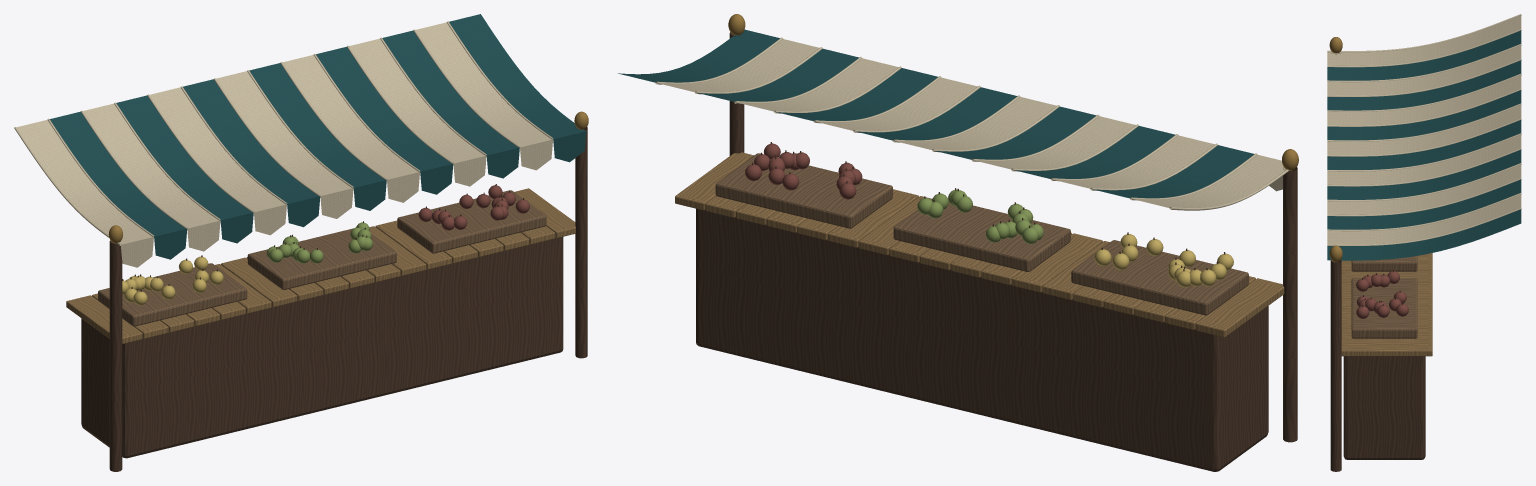
The model's file is market_stall.glb.
3 renders of one model, left to right at view 1: azimuth 30°, elevation 25°; view 2: azimuth 150°, elevation 25°; view 3: azimuth 270°, elevation 25°, orthographic. The views are drawn at different scales.
Parts seen in each view (by area): view 1: MarketStall_timber, MarketStall_ivory_cloth, MarketStall_teal_cloth, MarketStall_wood_edge, MarketStall_oak_planks, MarketStall_wine_cloth, MarketStall_leaf_gold, MarketStall_leaf_green; view 2: MarketStall_timber, MarketStall_ivory_cloth, MarketStall_teal_cloth, MarketStall_wood_edge, MarketStall_oak_planks, MarketStall_leaf_gold, MarketStall_wine_cloth, MarketStall_leaf_green; view 3: MarketStall_ivory_cloth, MarketStall_teal_cloth, MarketStall_timber, MarketStall_oak_planks, MarketStall_wood_edge, MarketStall_wine_cloth, MarketStall_gold_shadow.
Boxes of the visible parts, left/top/right/bottom form: MarketStall_timber: left=81, top=127, right=587, bottom=471; MarketStall_ivory_cloth: left=14, top=21, right=553, bottom=267; MarketStall_teal_cloth: left=49, top=14, right=586, bottom=259; MarketStall_wood_edge: left=98, top=190, right=546, bottom=326; MarketStall_oak_planks: left=66, top=188, right=575, bottom=344; MarketStall_wine_cloth: left=418, top=185, right=529, bottom=230; MarketStall_leaf_gold: left=122, top=256, right=223, bottom=305; MarketStall_leaf_green: left=266, top=222, right=372, bottom=263; MarketStall_timber: left=696, top=32, right=1297, bottom=471; MarketStall_ivory_cloth: left=655, top=37, right=1289, bottom=210; MarketStall_teal_cloth: left=618, top=29, right=1254, bottom=198; MarketStall_wood_edge: left=715, top=153, right=1248, bottom=315; MarketStall_oak_planks: left=675, top=152, right=1284, bottom=337; MarketStall_leaf_gold: left=1094, top=234, right=1233, bottom=287; MarketStall_wine_cloth: left=745, top=143, right=862, bottom=199; MarketStall_leaf_green: left=917, top=189, right=1043, bottom=244; MarketStall_ivory_cloth: left=1327, top=14, right=1521, bottom=245; MarketStall_teal_cloth: left=1327, top=30, right=1521, bottom=260; MarketStall_timber: left=1330, top=53, right=1425, bottom=471; MarketStall_oak_planks: left=1341, top=253, right=1432, bottom=356; MarketStall_wood_edge: left=1351, top=256, right=1417, bottom=338; MarketStall_wine_cloth: left=1356, top=271, right=1408, bottom=318; MarketStall_gold_shadow: left=1329, top=37, right=1342, bottom=262.
Size of the model in its own units: 5.75 by 3.09 by 2.2.
9 materials, 6 textured.
